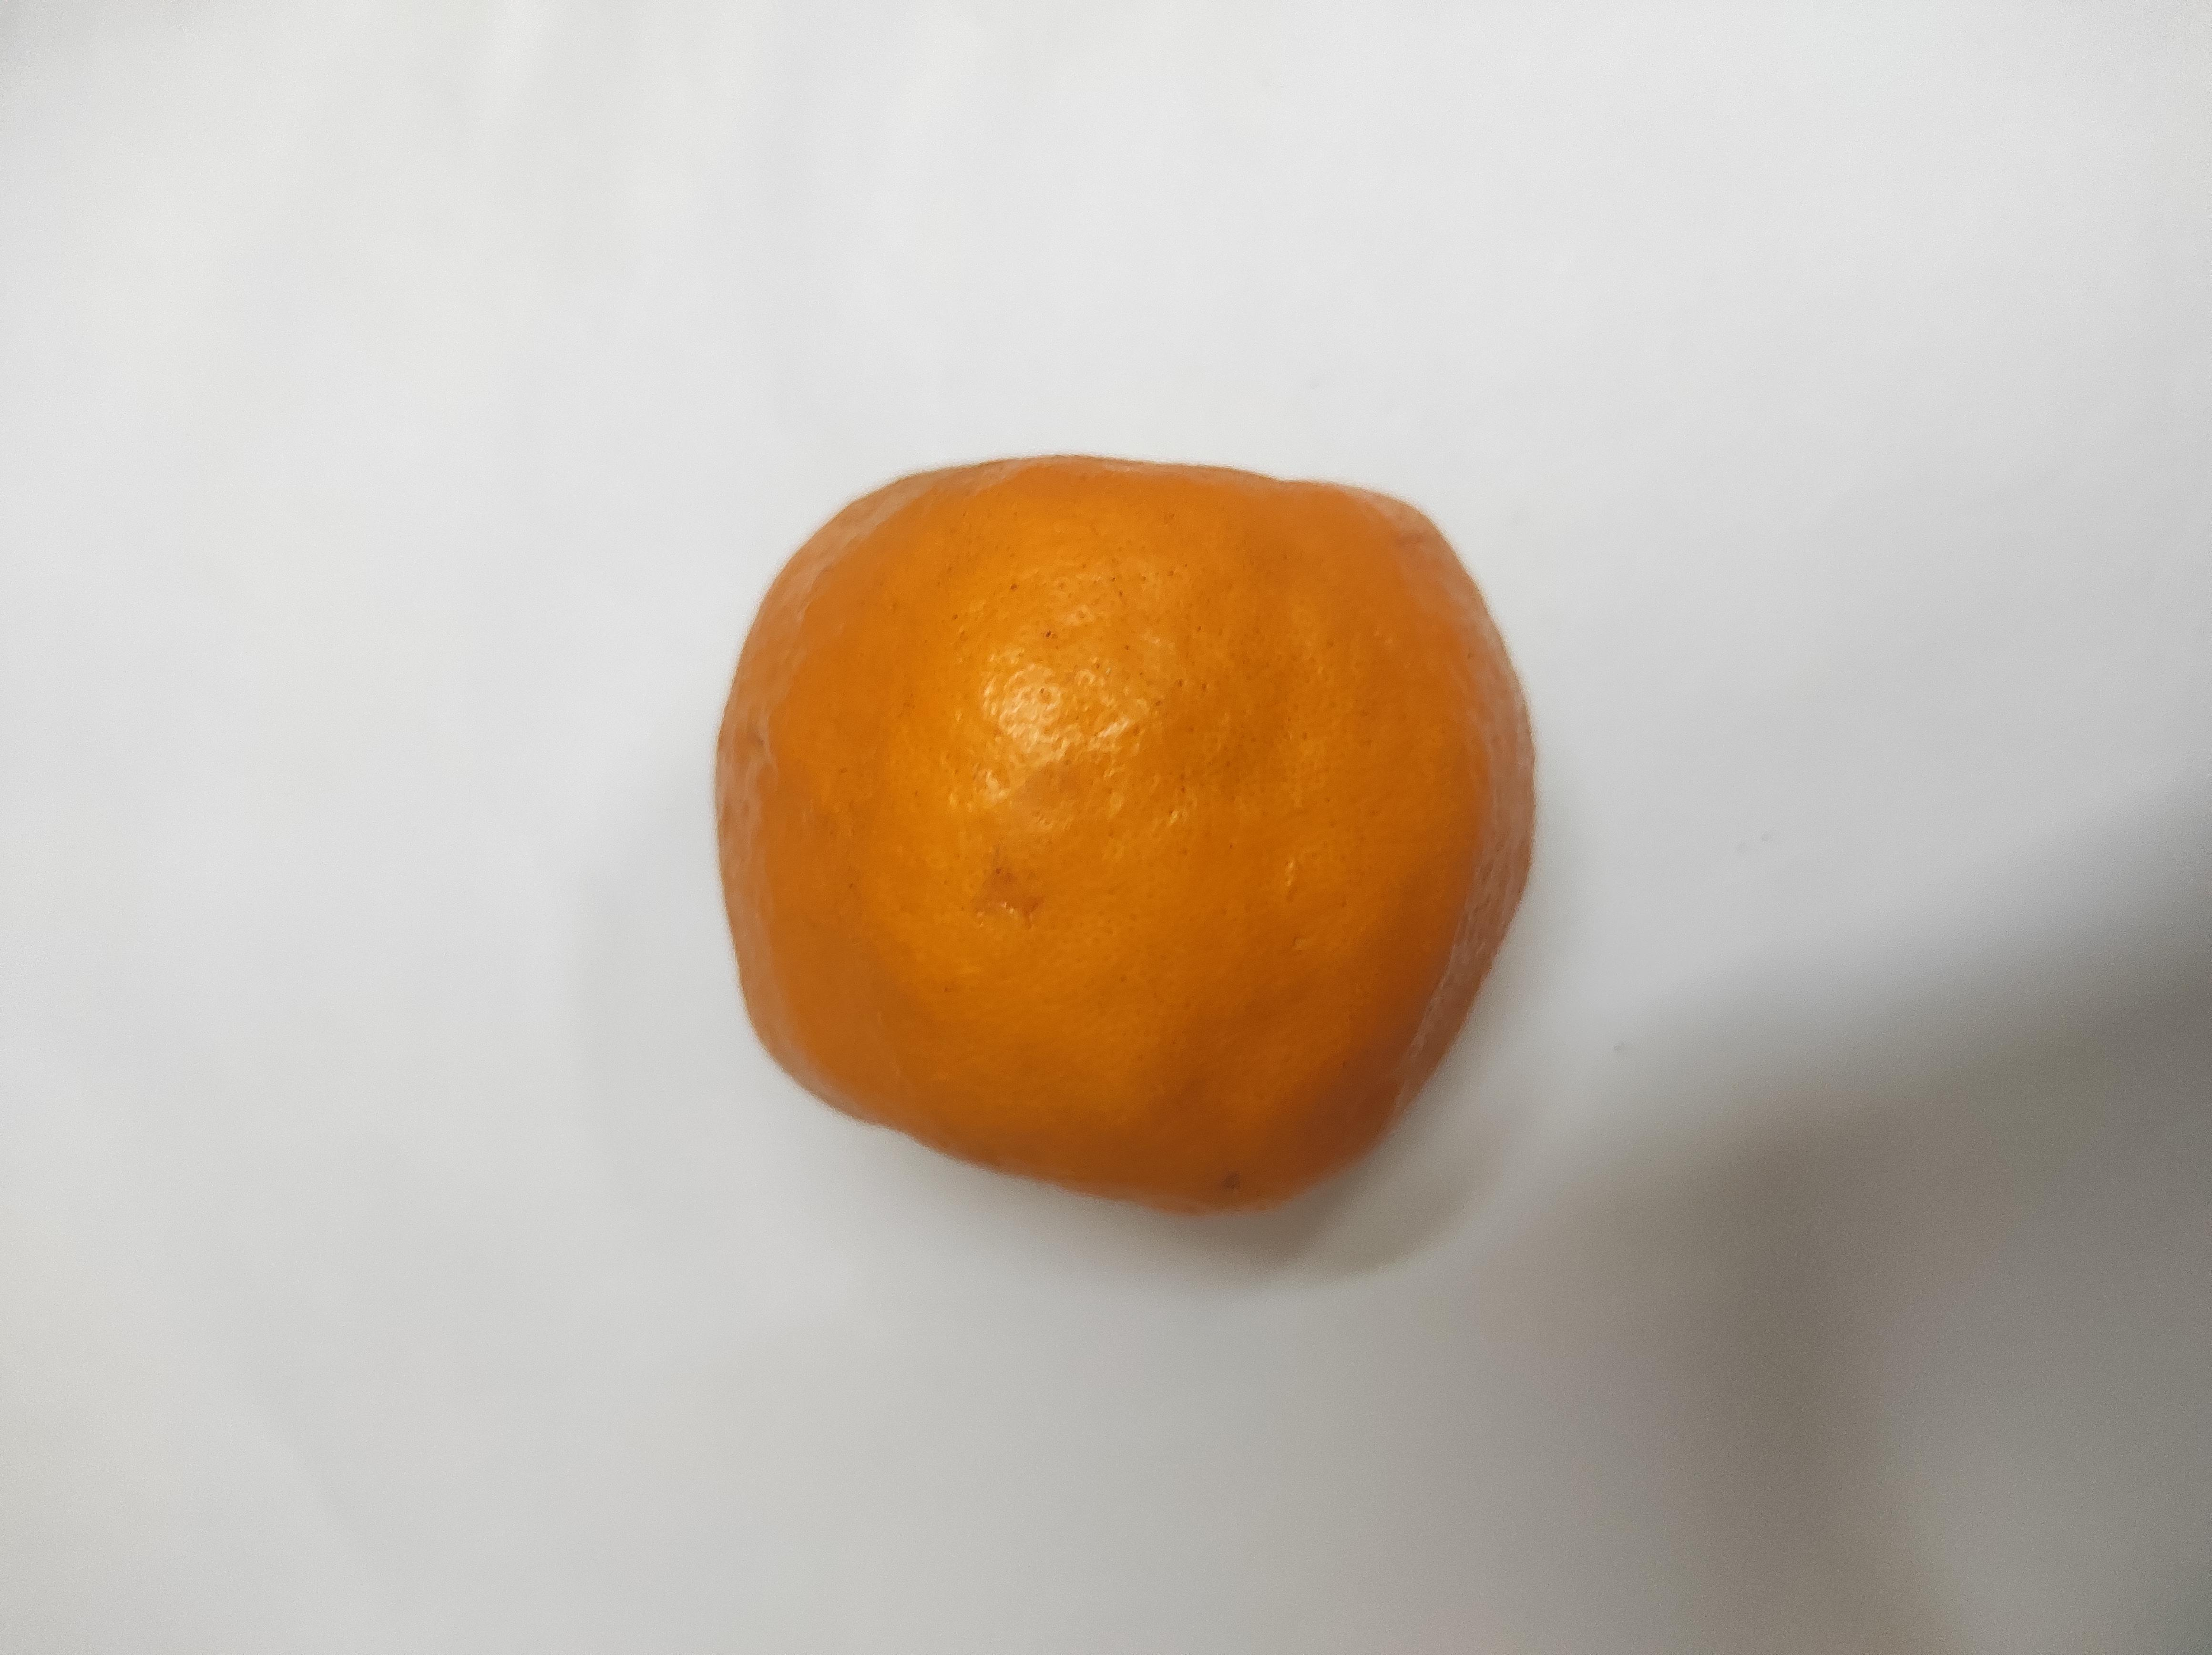Ripe: (605, 539, 1600, 1146)
